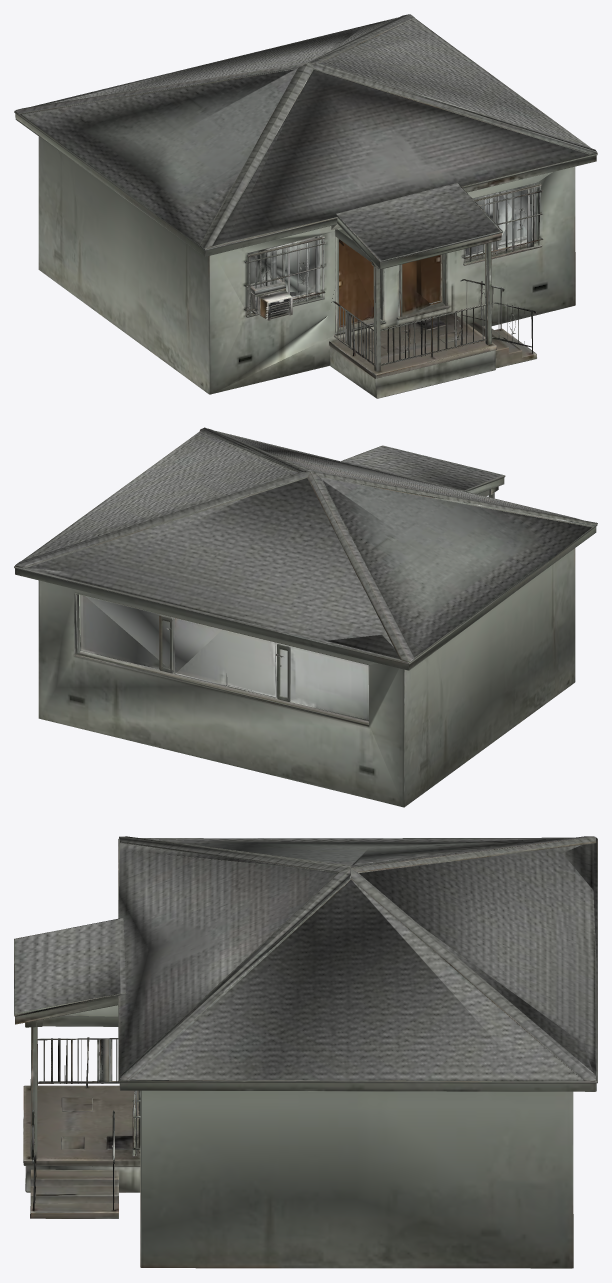
File: house-03-duplex.glb
The picture shows the model from 3 angles, top to bottom: view 1: azimuth 30°, elevation 25°; view 2: azimuth 150°, elevation 25°; view 3: azimuth 270°, elevation 25°; orthographic projection. The views are drawn at different scales.
Size of the model in its own units: 0.9351 by 0.5147 by 0.9463.
1 material, 1 textured.
